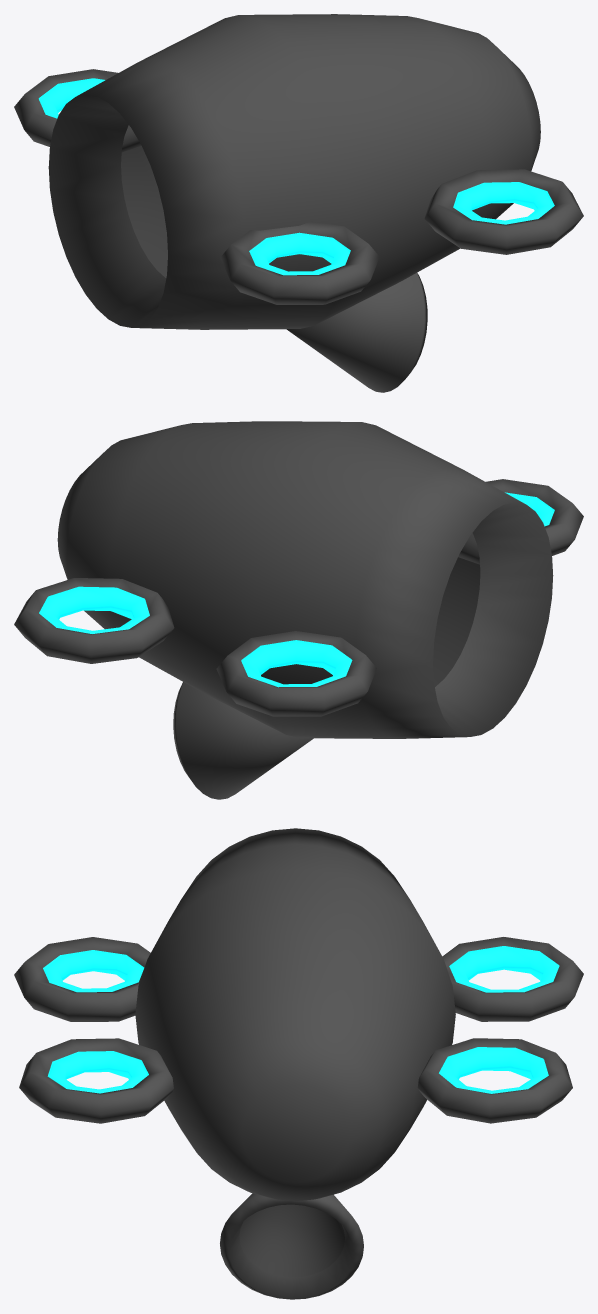
Rendered from drone1.glb.
3 renders of one model, top to bottom at view 1: azimuth 30°, elevation 25°; view 2: azimuth 150°, elevation 25°; view 3: azimuth 270°, elevation 25°, orthographic.
Parts seen in each view (by area): view 1: Drone 1; view 2: Drone 1; view 3: Drone 1.
Part boxes in pixels (left/top/right/bottom): Drone 1: left=14, top=14, right=583, bottom=392; Drone 1: left=14, top=421, right=583, bottom=799; Drone 1: left=14, top=828, right=583, bottom=1299.
Size of the model in its own units: 10.28 by 9.3 by 12.55.
